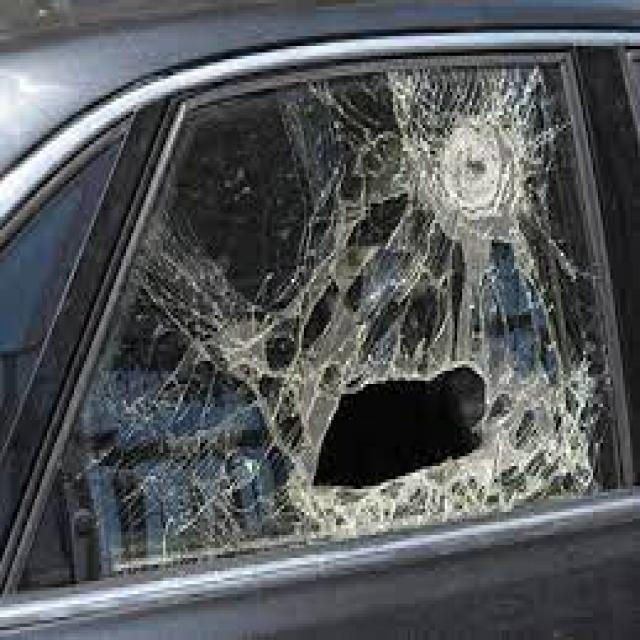damaged-window: (27, 42, 640, 578)
